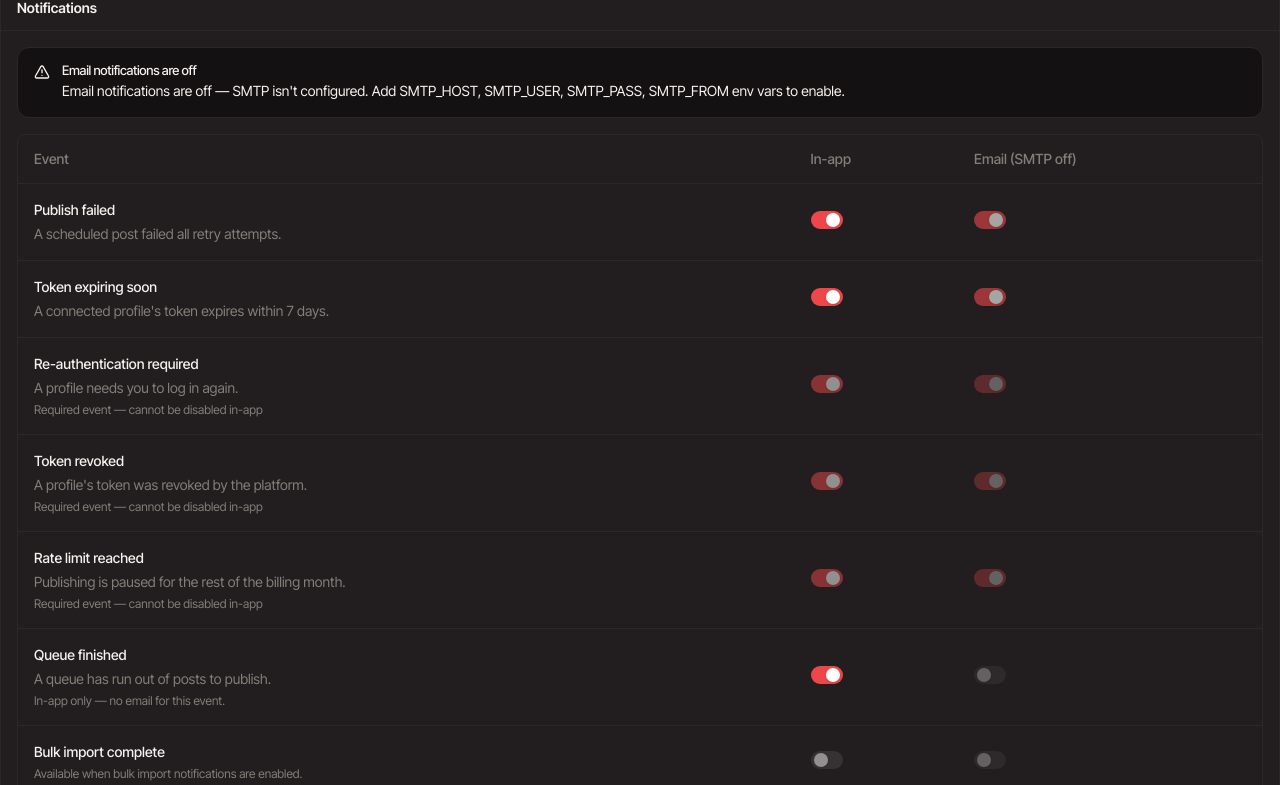
Test case: NotificationsTab › saves dirty prefs and shows SMTP-not-configured banner
Expected: the text "SMTP isn't configured" is shown, [62, 82, 845, 99]
Expected: the column heading "Email (SMTP off)" is shown, [958, 135, 1262, 183]
What coordinates should you click on to do the following:
click the switch named "Publish failed in-app notifications"
I would click on:
 (827, 220)
Its box is [811, 211, 843, 229].
(page scrolled)
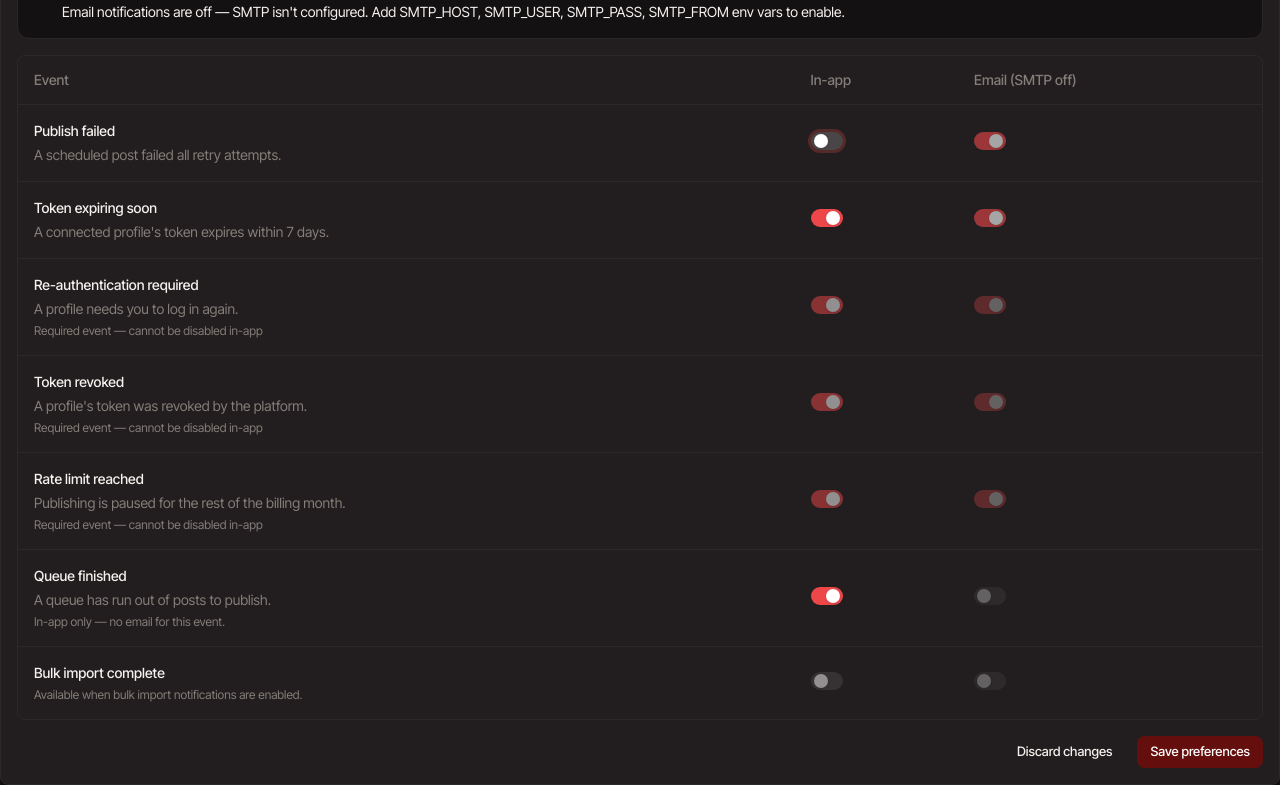
What coordinates should you click on to do the following:
click the button "Save preferences"
I would click on:
 (1200, 752)
Its box is [1138, 736, 1263, 768].
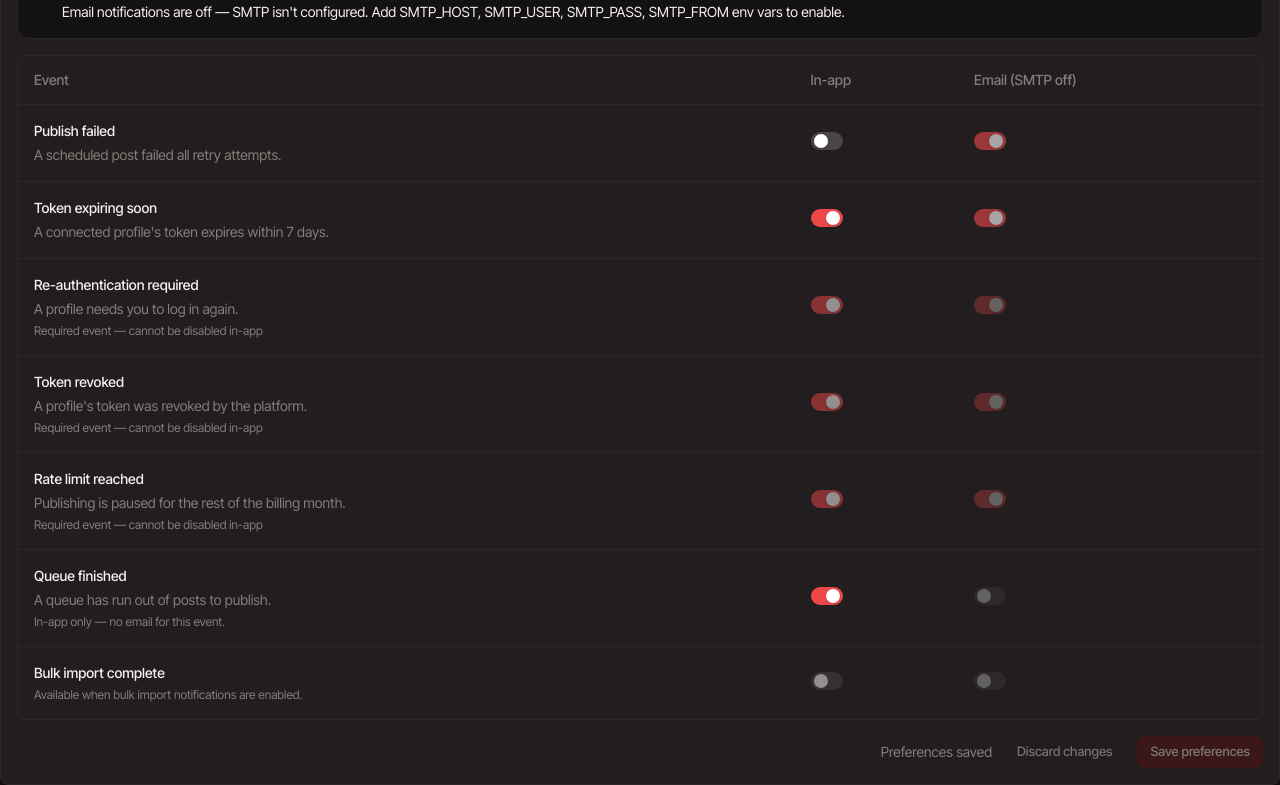
Result: the text "Preferences saved" is shown at [881, 742, 992, 762]
